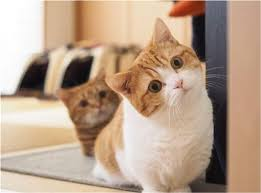cat: (113, 19, 207, 120)
